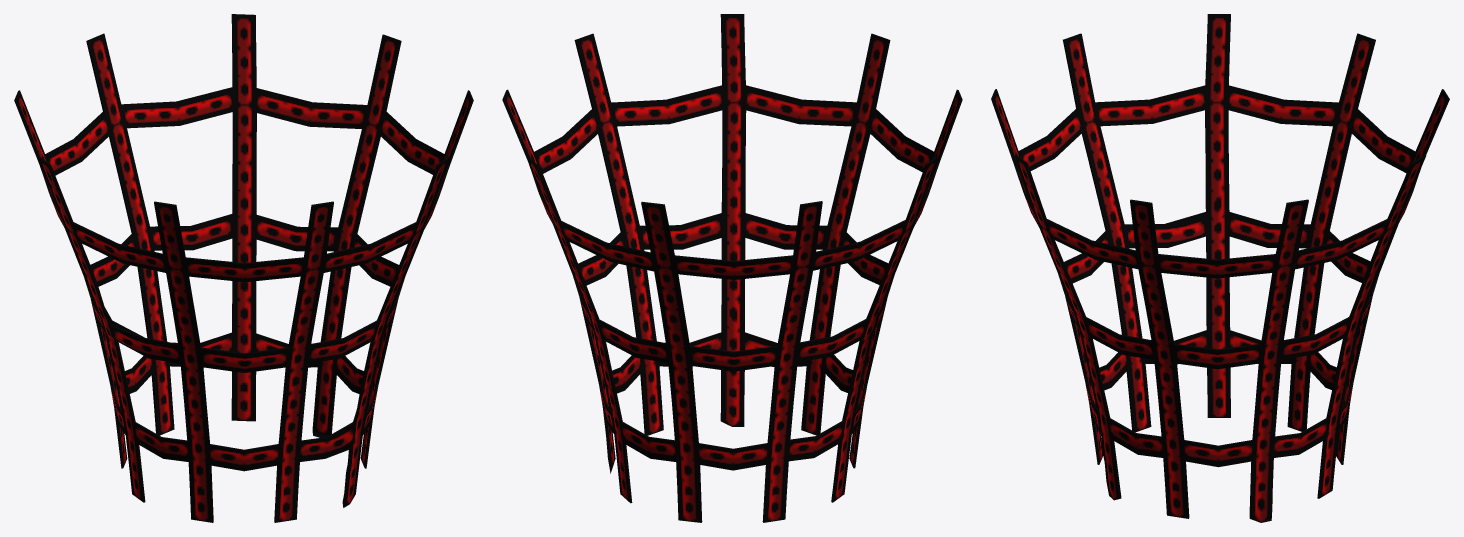
Rendered from NetRing.FBX.
3 renders of one model, left to right at view 1: azimuth 30°, elevation 25°; view 2: azimuth 150°, elevation 25°; view 3: azimuth 270°, elevation 25°, orthographic.
Visible parts, largest first — view 1: NetRing; view 2: NetRing; view 3: NetRing.
Part boxes in pixels (left/top/right/bottom): NetRing: left=14, top=14, right=473, bottom=522; NetRing: left=502, top=14, right=962, bottom=522; NetRing: left=991, top=14, right=1449, bottom=522.
Size of the model in its own units: 0.3 by 0.2679 by 0.306.
1 material, 1 textured.
